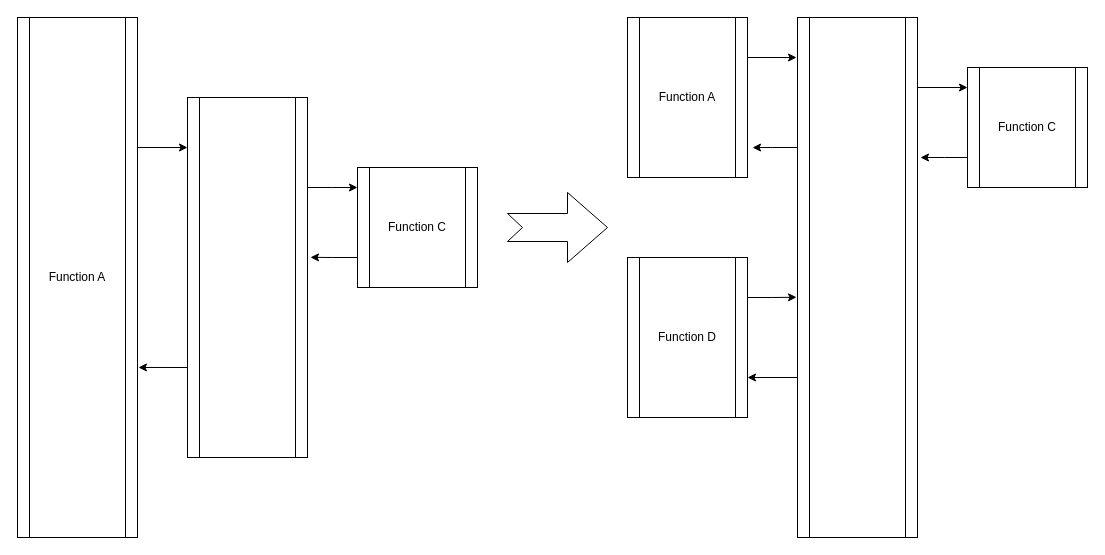
Image size: 1105x555. Some labels were removed from this diagram. Here are the shapes that lost their labels. From the top down, the box of each, then its label:
(186, 96, 308, 458): Function B
(796, 16, 918, 538): Function B'
